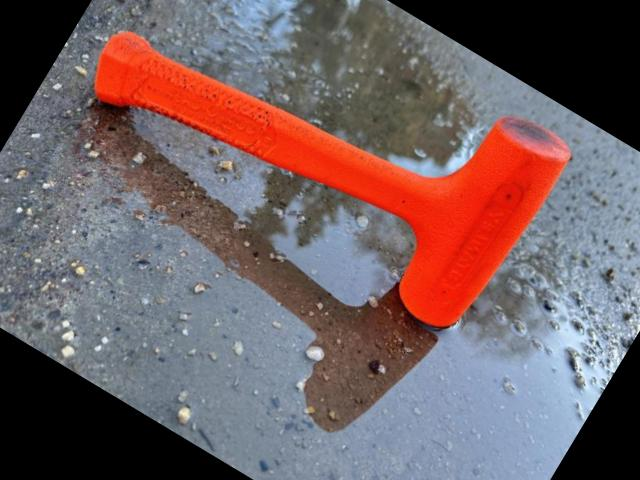hammer: (65, 0, 577, 344)
